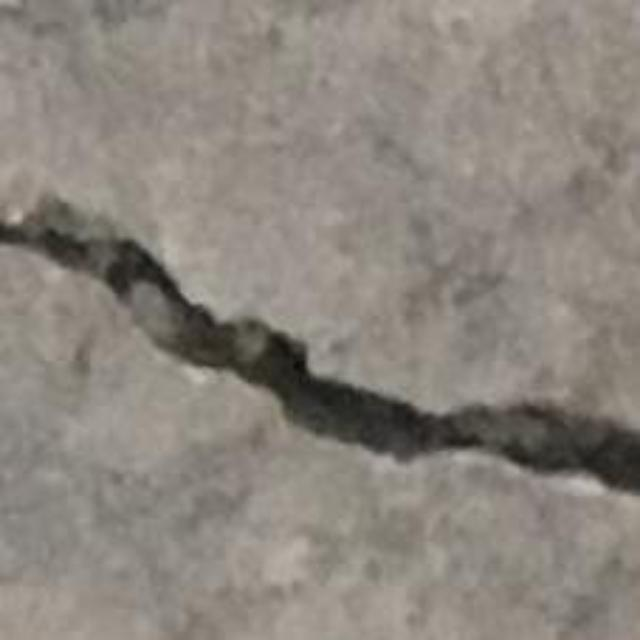crack: (0, 195, 639, 493)
